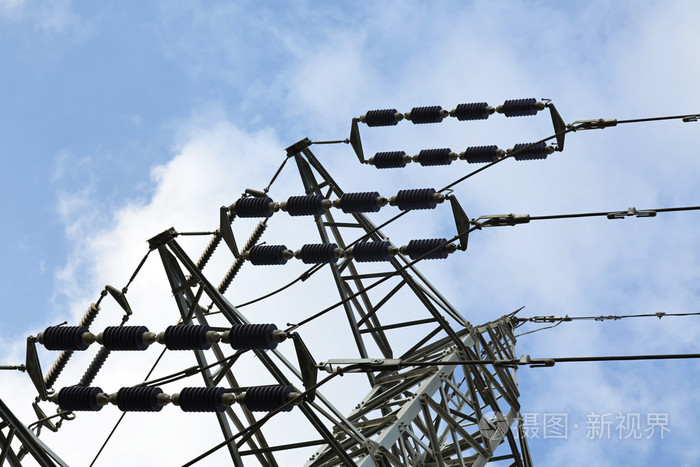insulator: (46, 301, 96, 384), (221, 220, 264, 293), (227, 323, 279, 351), (244, 385, 294, 414), (178, 386, 229, 414), (102, 324, 147, 354), (165, 322, 211, 351), (59, 385, 103, 415), (116, 386, 162, 414), (42, 325, 88, 351), (79, 351, 108, 387), (397, 188, 438, 212), (354, 240, 392, 264), (410, 237, 447, 261), (286, 195, 326, 217), (464, 143, 503, 165), (251, 243, 288, 266), (342, 192, 380, 214), (500, 97, 541, 116), (303, 242, 334, 266), (512, 141, 547, 162), (200, 232, 221, 267), (234, 196, 272, 215), (456, 100, 490, 121), (374, 150, 406, 171), (419, 146, 452, 166), (364, 107, 397, 127), (409, 105, 442, 122)
